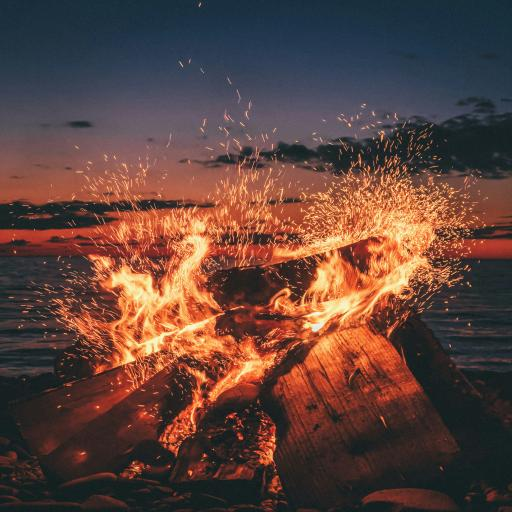campfire: (0, 4, 512, 511)
